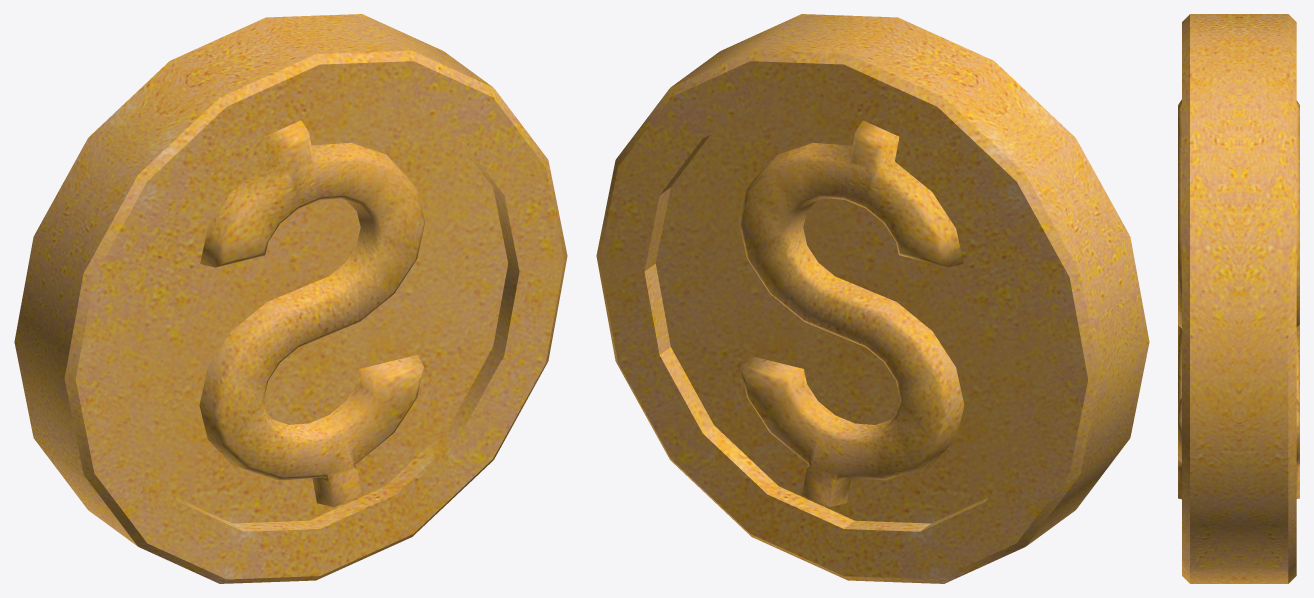
File: JinBi.FBX
The picture shows the model from 3 angles, left to right: view 1: azimuth 30°, elevation 25°; view 2: azimuth 150°, elevation 25°; view 3: azimuth 270°, elevation 25°; orthographic projection.
Visible parts, largest first — view 1: JinBi; view 2: JinBi; view 3: JinBi.
Boxes of the visible parts, x1,y1,x2,y2 form: JinBi: [14, 14, 567, 583]; JinBi: [596, 14, 1149, 583]; JinBi: [1178, 14, 1299, 583].
Size of the model in its own units: 29.46 by 29.46 by 6.29.
1 material, 1 textured.
